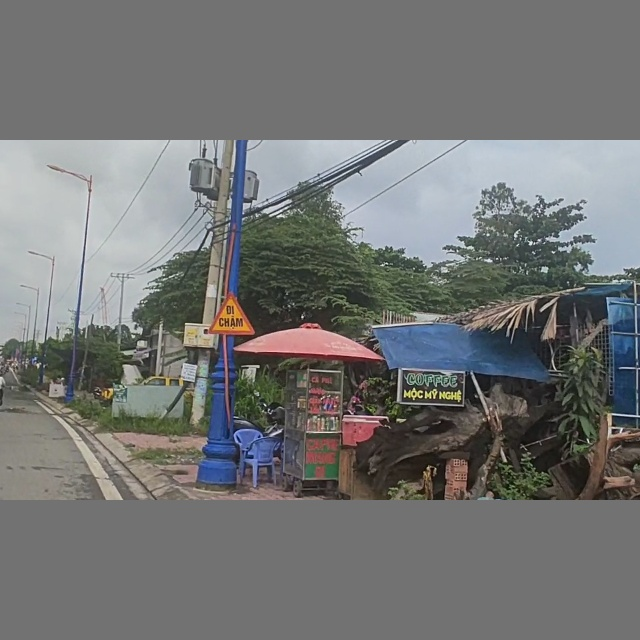W.245a: (207, 292, 256, 337)
